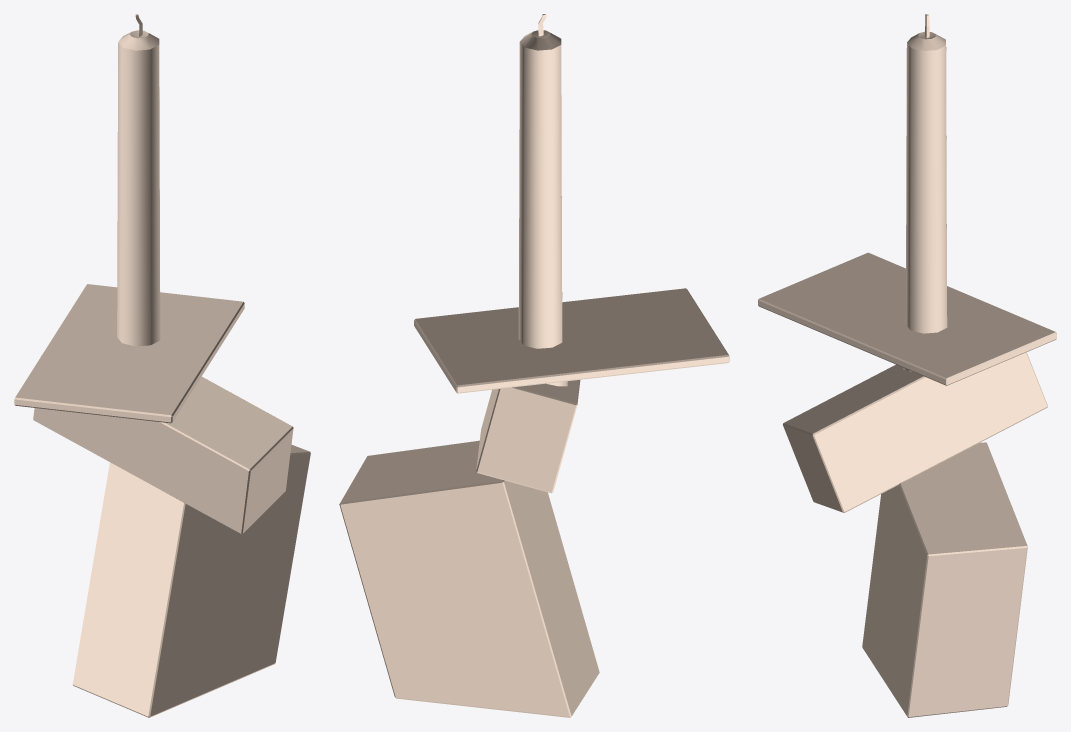
File: RFAIPP_Twist_Candlestick_2.FBX
3 renders of one model, left to right at view 1: azimuth 30°, elevation 25°; view 2: azimuth 150°, elevation 25°; view 3: azimuth 270°, elevation 25°, orthographic. The views are drawn at different scales.
Visible parts, largest first — view 1: RFAIPP_Twist_Candlestick_2; view 2: RFAIPP_Twist_Candlestick_2; view 3: RFAIPP_Twist_Candlestick_2.
Boxes of the visible parts, bbox=[...] form: RFAIPP_Twist_Candlestick_2: bbox=[14, 14, 310, 717]; RFAIPP_Twist_Candlestick_2: bbox=[339, 14, 729, 717]; RFAIPP_Twist_Candlestick_2: bbox=[758, 14, 1056, 717].
Size of the model in its own units: 0.1676 by 0.3288 by 0.1384.
